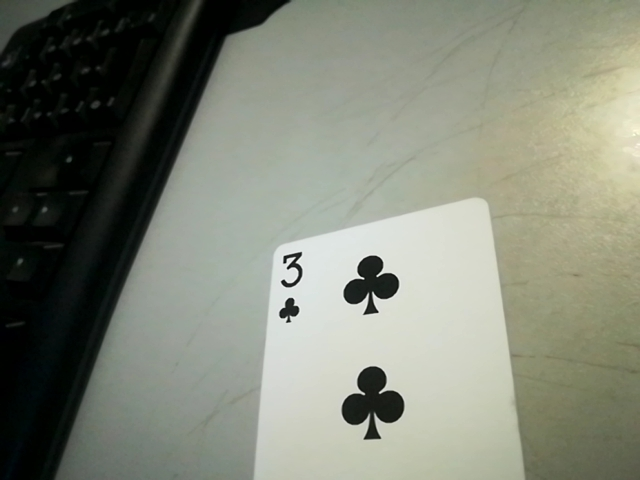mh 3: (264, 243, 314, 325)
